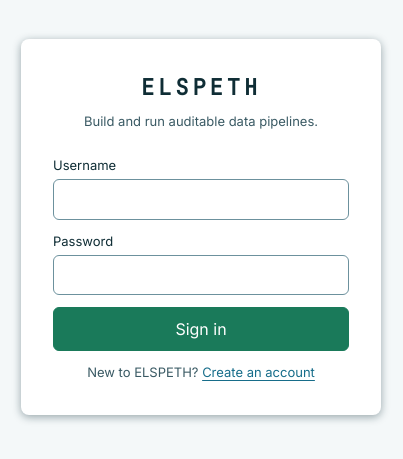
Test case: LoginPage › keeps the username and clears only the password after a failed sign-in
Type "alice" into the field labelled "Username". click: (201, 199)
box: [53, 179, 349, 220]
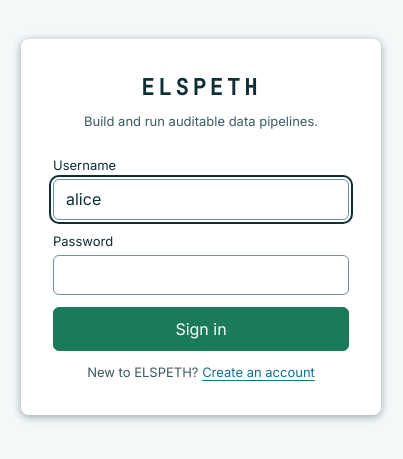
Type "wrong-password" into the password field labelled "Password". click: (201, 275)
box: [53, 255, 349, 295]
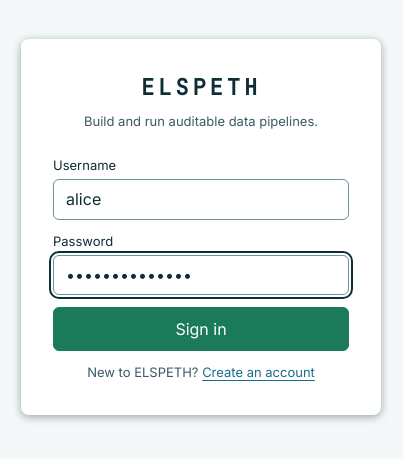
Click the button "Sign in". click: click(201, 329)
box: [53, 307, 349, 351]
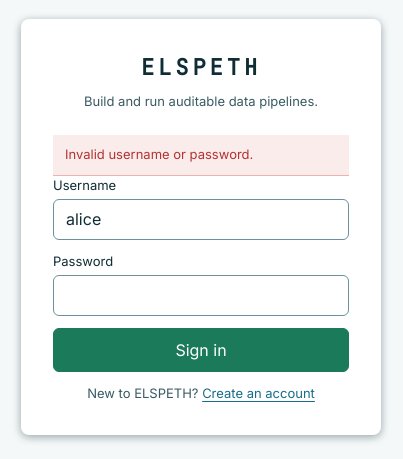
Expected: the message reads "Invalid username or password.", [65, 146, 253, 162]
Expected: the password field labelled "Password" is empty, [53, 275, 349, 316]
